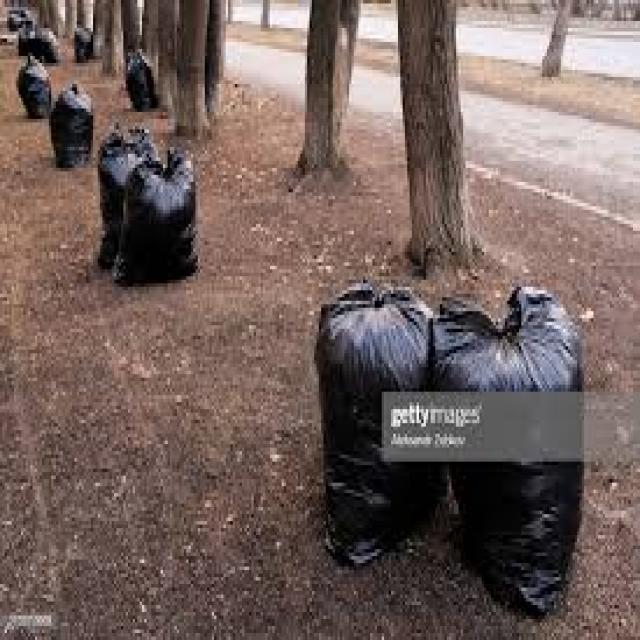garbage: (302, 280, 594, 605), (4, 0, 198, 287)
